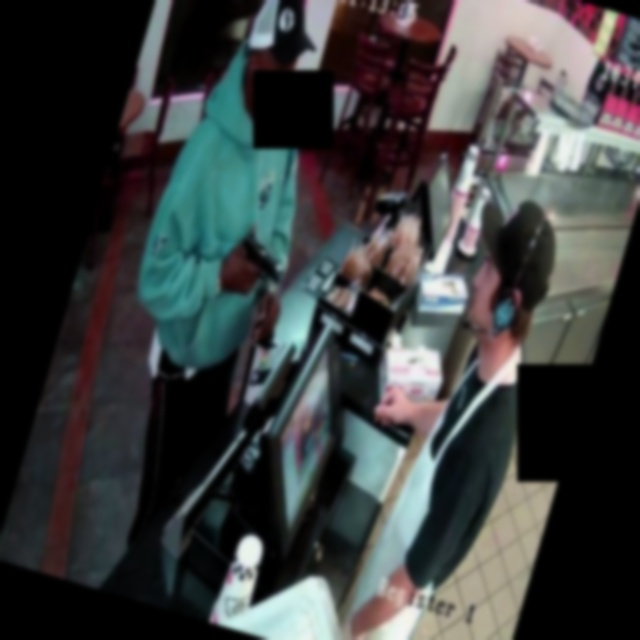gun: (211, 209, 308, 303)
